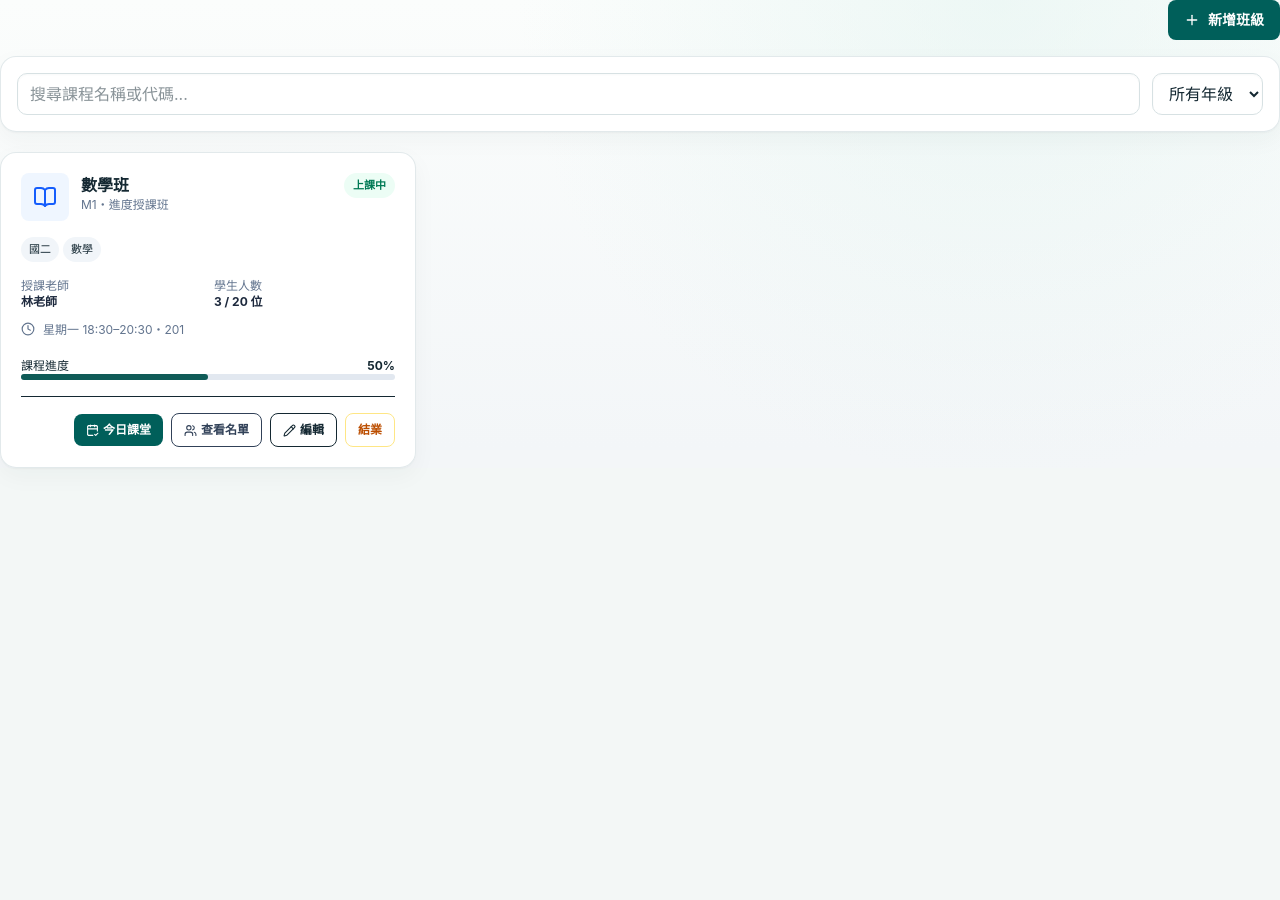
Test: class overview › opens the existing class editor in the same dialog flow
Click the button "編輯" at {"x": 304, "y": 430}, box 270,412 -> 337,446
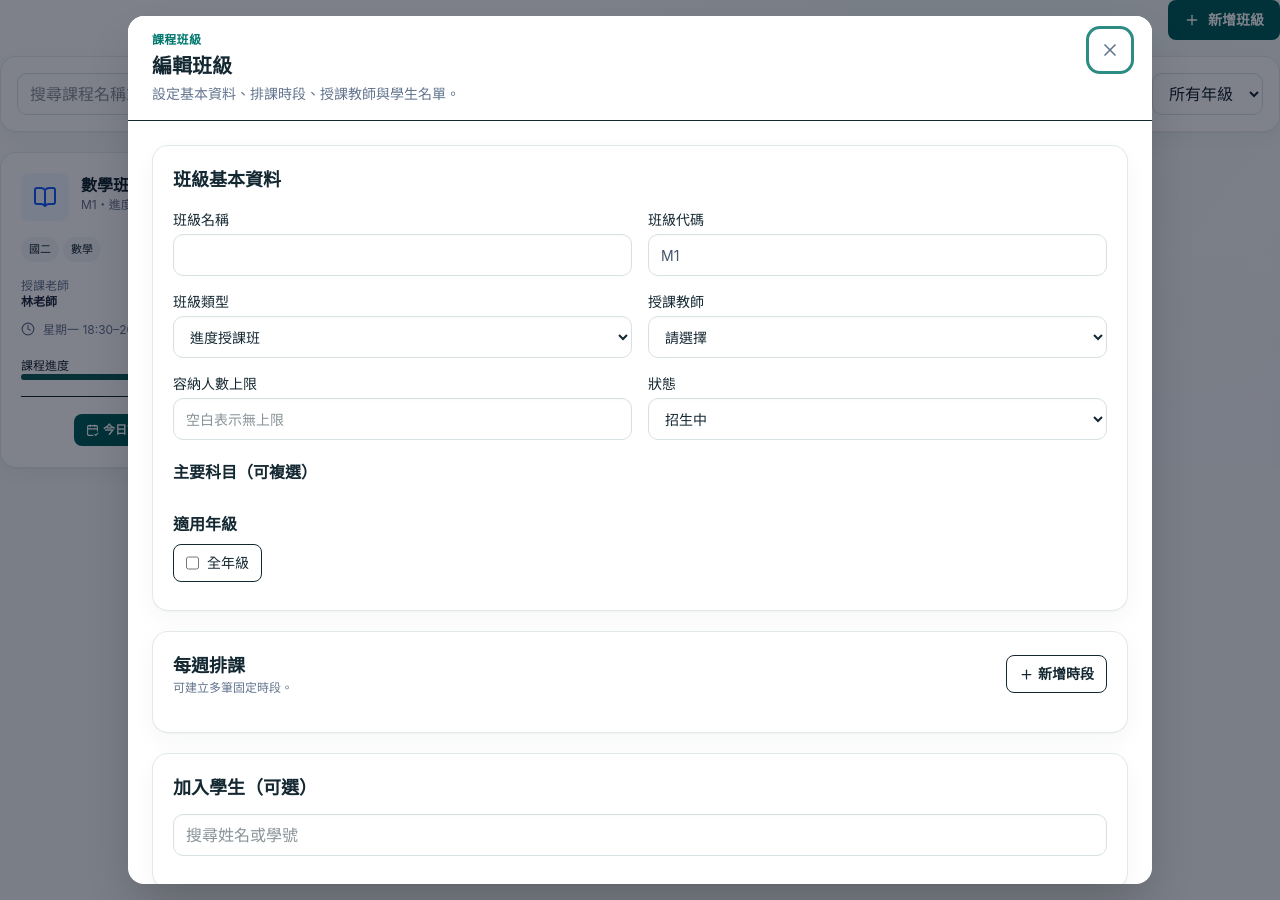
Result: the dialog "編輯班級" is shown
